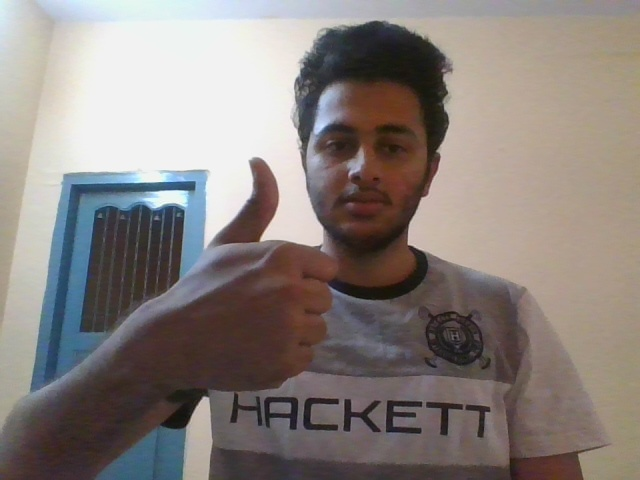Thumbsup: (173, 156, 342, 393)
